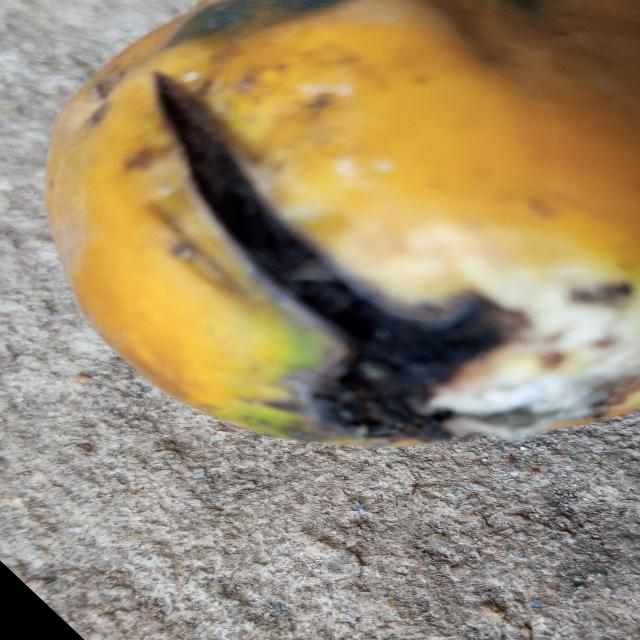damaged: (44, 0, 640, 448)
